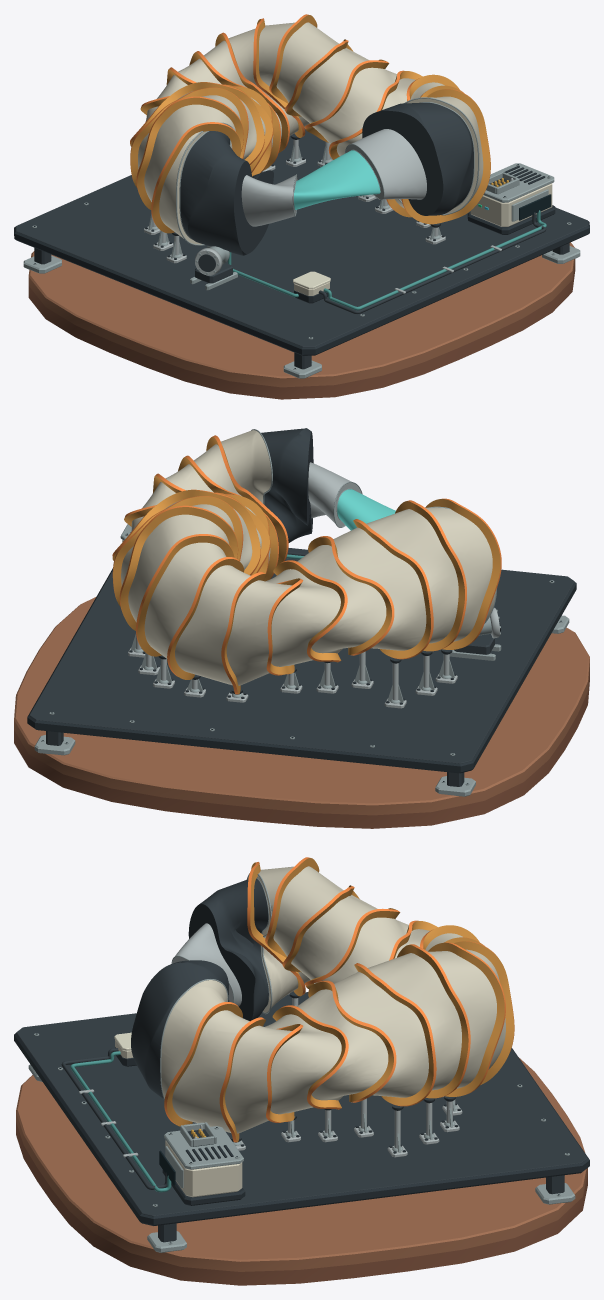
The model's file is pwo3_stellarator_cutaway.glb.
3 views of the same model, one above another, from view 1: azimuth 30°, elevation 25°; view 2: azimuth 150°, elevation 25°; view 3: azimuth 270°, elevation 25° (orthographic). The views are drawn at different scales.
Parts seen in each view (by area): view 1: Service_Deck, Martian_Ground_Plinth, Vacuum_Vessel, Blanket, First_Wall, Diagnostic_Interface, Plasma, Cable_Loom, Winding_12, Winding_07, Winding_03, Winding_14 (+14 smaller); view 2: Service_Deck, Vacuum_Vessel, Martian_Ground_Plinth, Blanket, Winding_13, Winding_03, First_Wall, Winding_07, Winding_09, Winding_01, Winding_11, Winding_16 (+12 smaller); view 3: Service_Deck, Vacuum_Vessel, Martian_Ground_Plinth, Blanket, Diagnostic_Interface, Cable_Loom, Winding_09, Winding_13, Winding_16, First_Wall, Winding_06, Winding_05 (+10 smaller).
Part boxes in pixels (bbox=[...]): Service_Deck: bbox=[14, 128, 589, 378]; Martian_Ground_Plinth: bbox=[28, 242, 575, 399]; Vacuum_Vessel: bbox=[138, 22, 483, 244]; Blanket: bbox=[180, 102, 473, 255]; First_Wall: bbox=[241, 129, 426, 226]; Diagnostic_Interface: bbox=[467, 163, 555, 234]; Plasma: bbox=[294, 150, 380, 209]; Cable_Loom: bbox=[228, 210, 546, 313]; Winding_12: bbox=[401, 89, 490, 224]; Winding_07: bbox=[136, 96, 243, 209]; Winding_03: bbox=[151, 122, 241, 233]; Winding_14: bbox=[130, 82, 264, 164]; Service_Deck: bbox=[27, 547, 576, 796]; Vacuum_Vessel: bbox=[121, 430, 495, 685]; Martian_Ground_Plinth: bbox=[14, 597, 589, 828]; Blanket: bbox=[261, 428, 313, 542]; Winding_13: bbox=[119, 505, 238, 630]; Winding_03: bbox=[425, 498, 501, 649]; First_Wall: bbox=[308, 462, 361, 526]; Winding_07: bbox=[395, 500, 466, 651]; Winding_09: bbox=[136, 534, 234, 656]; Winding_01: bbox=[112, 489, 260, 575]; Winding_11: bbox=[353, 519, 433, 659]; Winding_16: bbox=[112, 496, 243, 606]; Service_Deck: bbox=[14, 992, 589, 1252]; Vacuum_Vessel: bbox=[161, 866, 505, 1133]; Martian_Ground_Plinth: bbox=[16, 1058, 587, 1285]; Blanket: bbox=[131, 879, 268, 1098]; Diagnostic_Interface: bbox=[159, 1126, 245, 1205]; Cable_Loom: bbox=[61, 1048, 171, 1192]; Winding_09: bbox=[428, 942, 505, 1096]; Winding_13: bbox=[397, 944, 470, 1098]; Winding_16: bbox=[354, 963, 436, 1106]; First_Wall: bbox=[172, 923, 241, 1006]; Winding_06: bbox=[454, 941, 514, 1084]; Winding_05: bbox=[272, 1005, 348, 1109].
Size of the model in its own units: 0.1756 by 0.0786 by 0.17.
